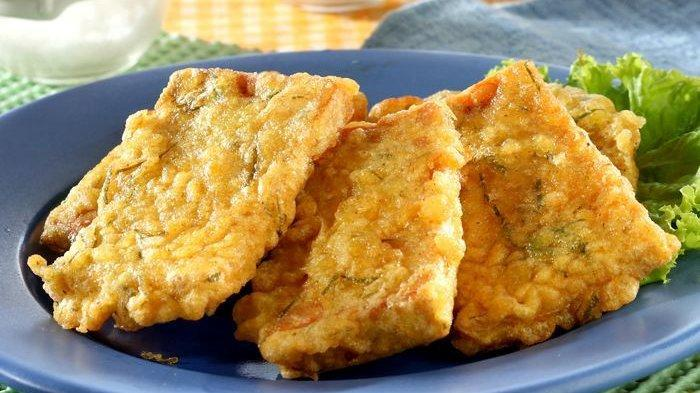Tempe: (37, 57, 347, 342), (241, 116, 451, 393), (431, 79, 612, 364)
